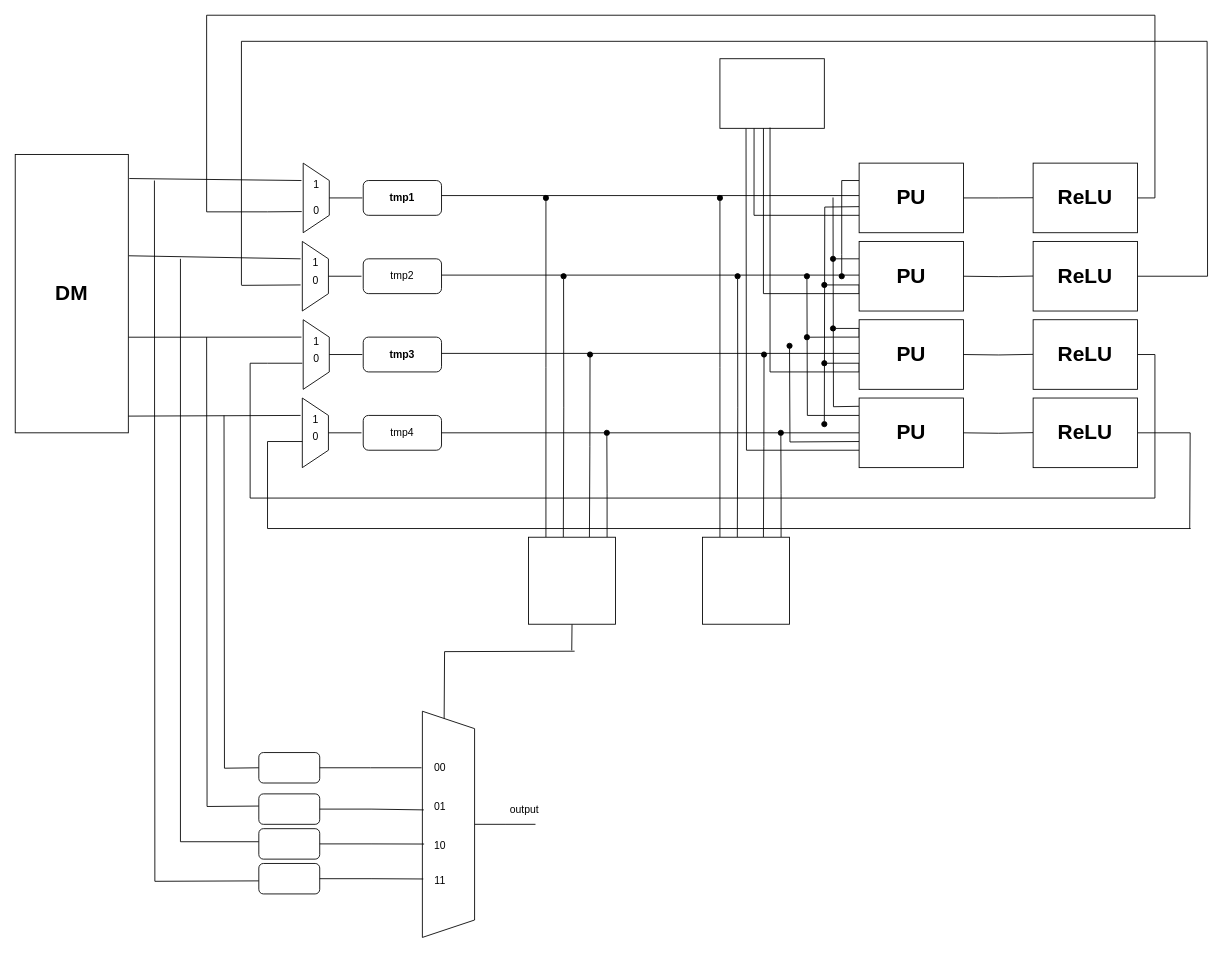
This 1224x953 diagram has some shape labels left out. The centre of each missing label's shape, as x and y in pixels:
check: the point at 746,580
DECODER: the point at 572,580
Matrix: the point at 771,93
x1: the point at 289,767
x2: the point at 289,808
x3: the point at 289,843
x4: the point at 289,878
